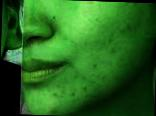Acne: (91, 63, 96, 68), (70, 91, 74, 97), (52, 14, 56, 19), (82, 84, 86, 89), (52, 92, 57, 96)
